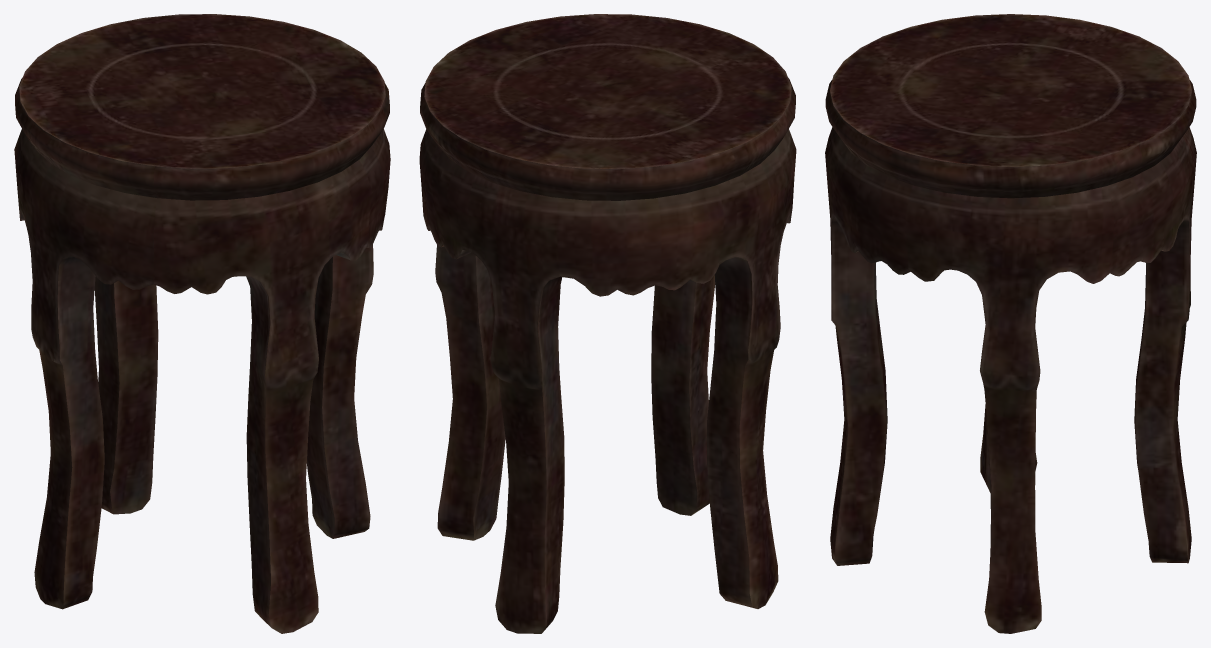
The model's file is woodentable_02.glb.
The picture shows the model from 3 angles, left to right: view 1: azimuth 30°, elevation 25°; view 2: azimuth 150°, elevation 25°; view 3: azimuth 270°, elevation 25°; orthographic projection.
Parts seen in each view (by area): view 1: WoodenTable_02; view 2: WoodenTable_02; view 3: WoodenTable_02.
Boxes of the visible parts, x1=… form: WoodenTable_02: x1=14, y1=14, x2=390, y2=633; WoodenTable_02: x1=419, y1=14, x2=796, y2=633; WoodenTable_02: x1=825, y1=14, x2=1196, y2=633.
Size of the model in its own units: 0.3007 by 0.4177 by 0.3007.
Materials: 1 (1 with a texture image).
